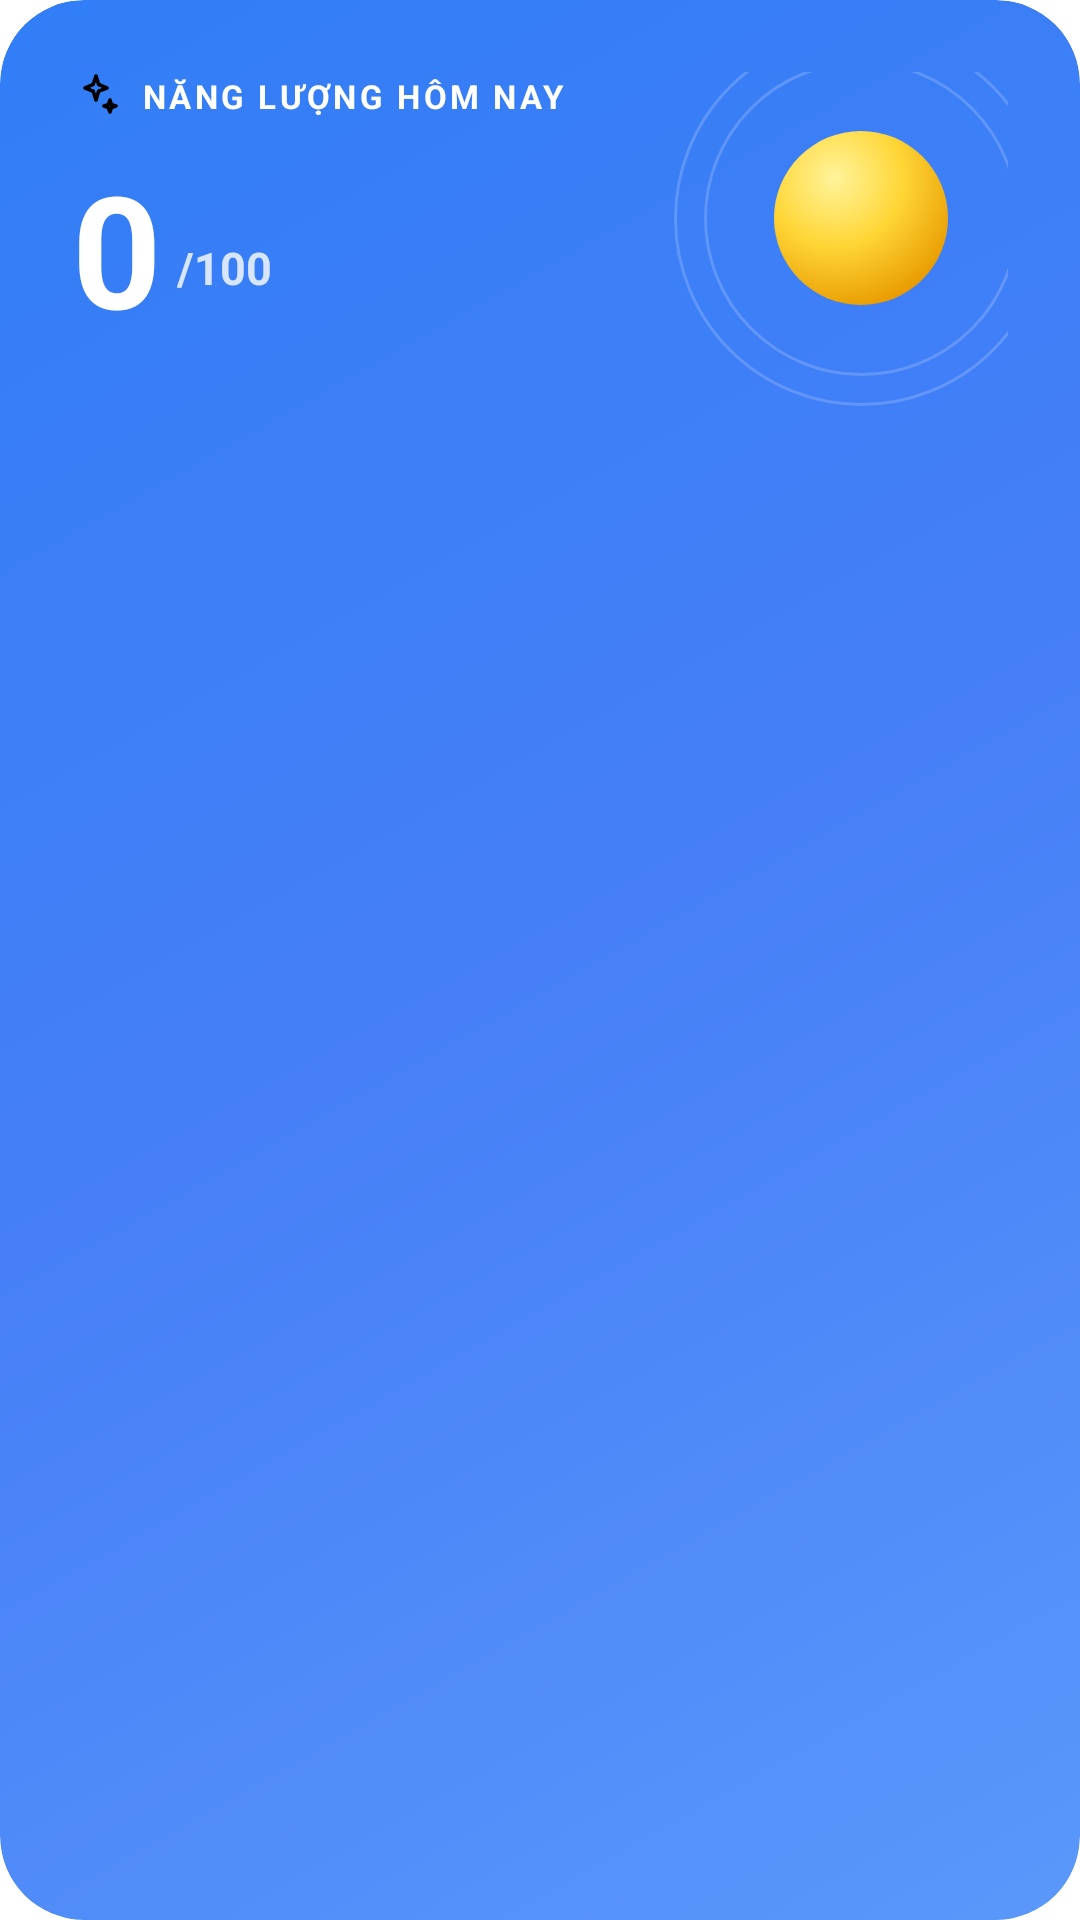

Icon bounding boxes for this 1080x1920 phone screenshot, format (x1, y1, x2, y2):
spark: (83, 74, 118, 114)
sun core: (774, 131, 948, 305)
